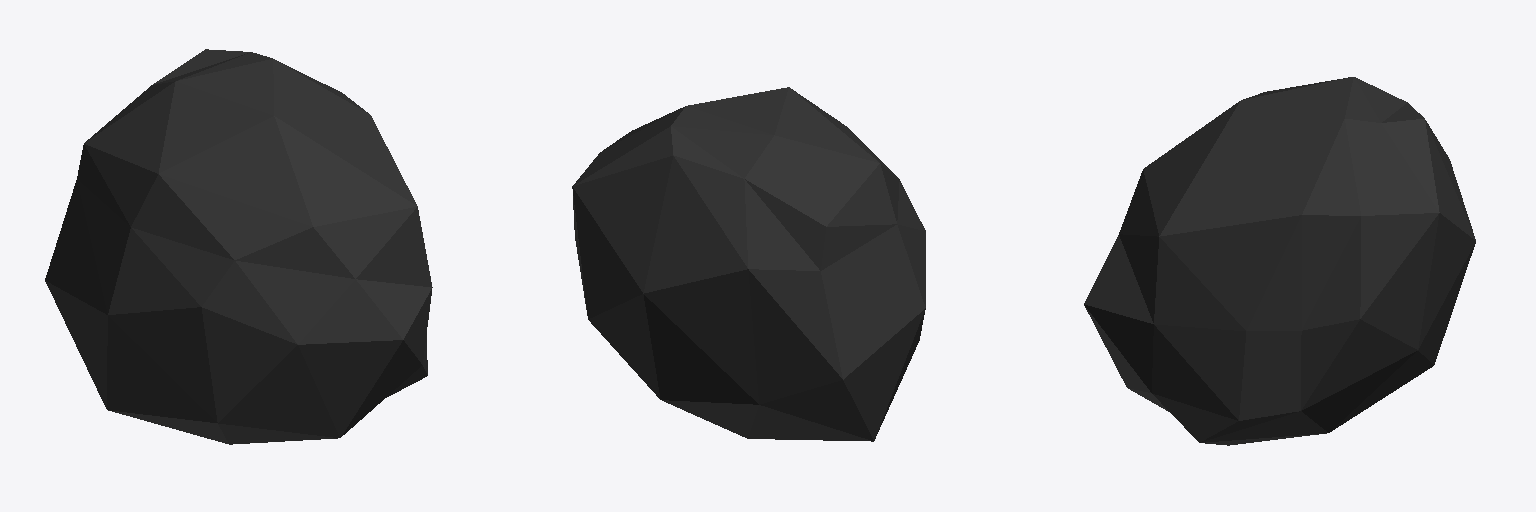
File: rock2.obj
3 views of the same model, side by side, from view 1: azimuth 30°, elevation 25°; view 2: azimuth 150°, elevation 25°; view 3: azimuth 270°, elevation 25° (orthographic).
Visible parts, largest first — view 1: Icosphere; view 2: Icosphere; view 3: Icosphere.
Boxes of the visible parts, <box> form: Icosphere: <box>45,49,432,444</box>; Icosphere: <box>572,87,925,441</box>; Icosphere: <box>1084,77,1475,445</box>.
Size of the model in its own units: 0.586 by 0.5918 by 0.6512.